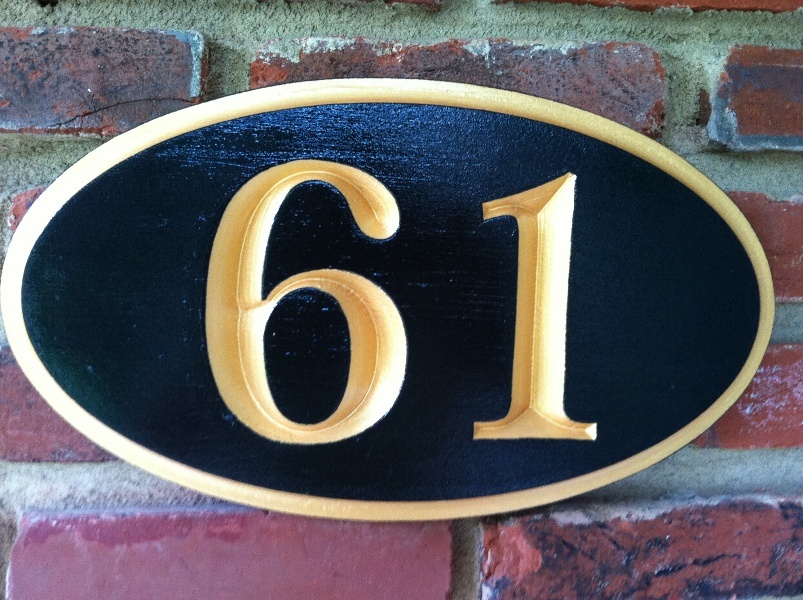text: (209, 159, 224, 447), (225, 159, 240, 447), (241, 159, 256, 447), (257, 159, 272, 447), (273, 159, 288, 447), (289, 159, 304, 447), (305, 159, 320, 447), (321, 159, 336, 447), (337, 159, 352, 447), (353, 159, 368, 447), (369, 159, 384, 447), (385, 159, 400, 447), (401, 159, 416, 447), (417, 159, 432, 447), (433, 159, 448, 447), (449, 159, 464, 447), (465, 159, 480, 447), (481, 159, 496, 447), (497, 159, 512, 447), (513, 159, 528, 447), (529, 159, 544, 447), (545, 159, 560, 447), (561, 159, 576, 447), (577, 159, 592, 447), (593, 159, 601, 447), (204, 159, 208, 447)
